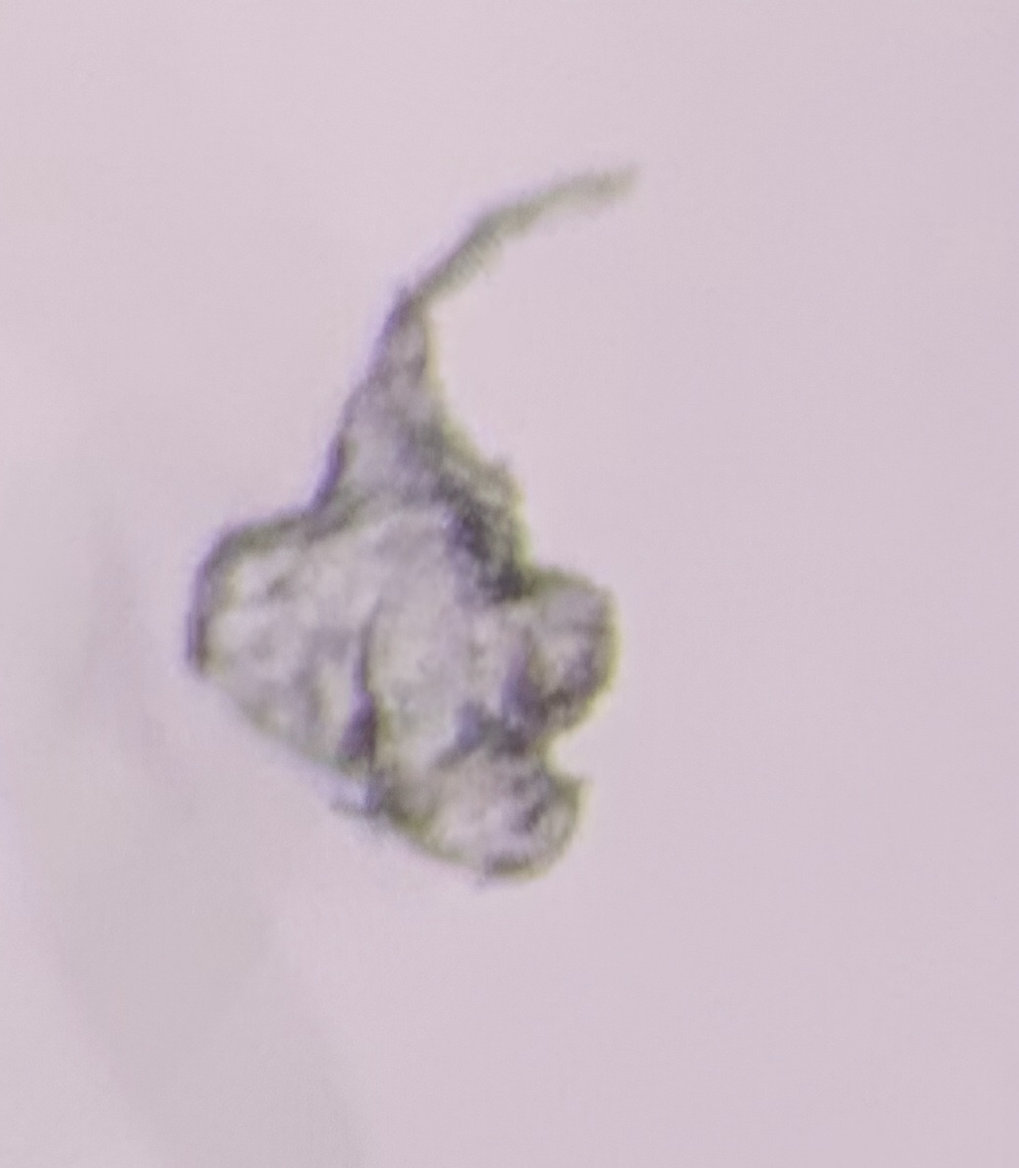microplastic: (177, 161, 632, 887)
